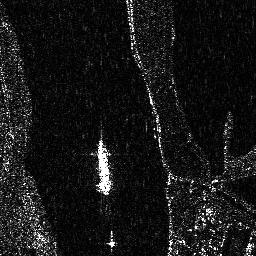ship: (94, 138, 114, 196)
